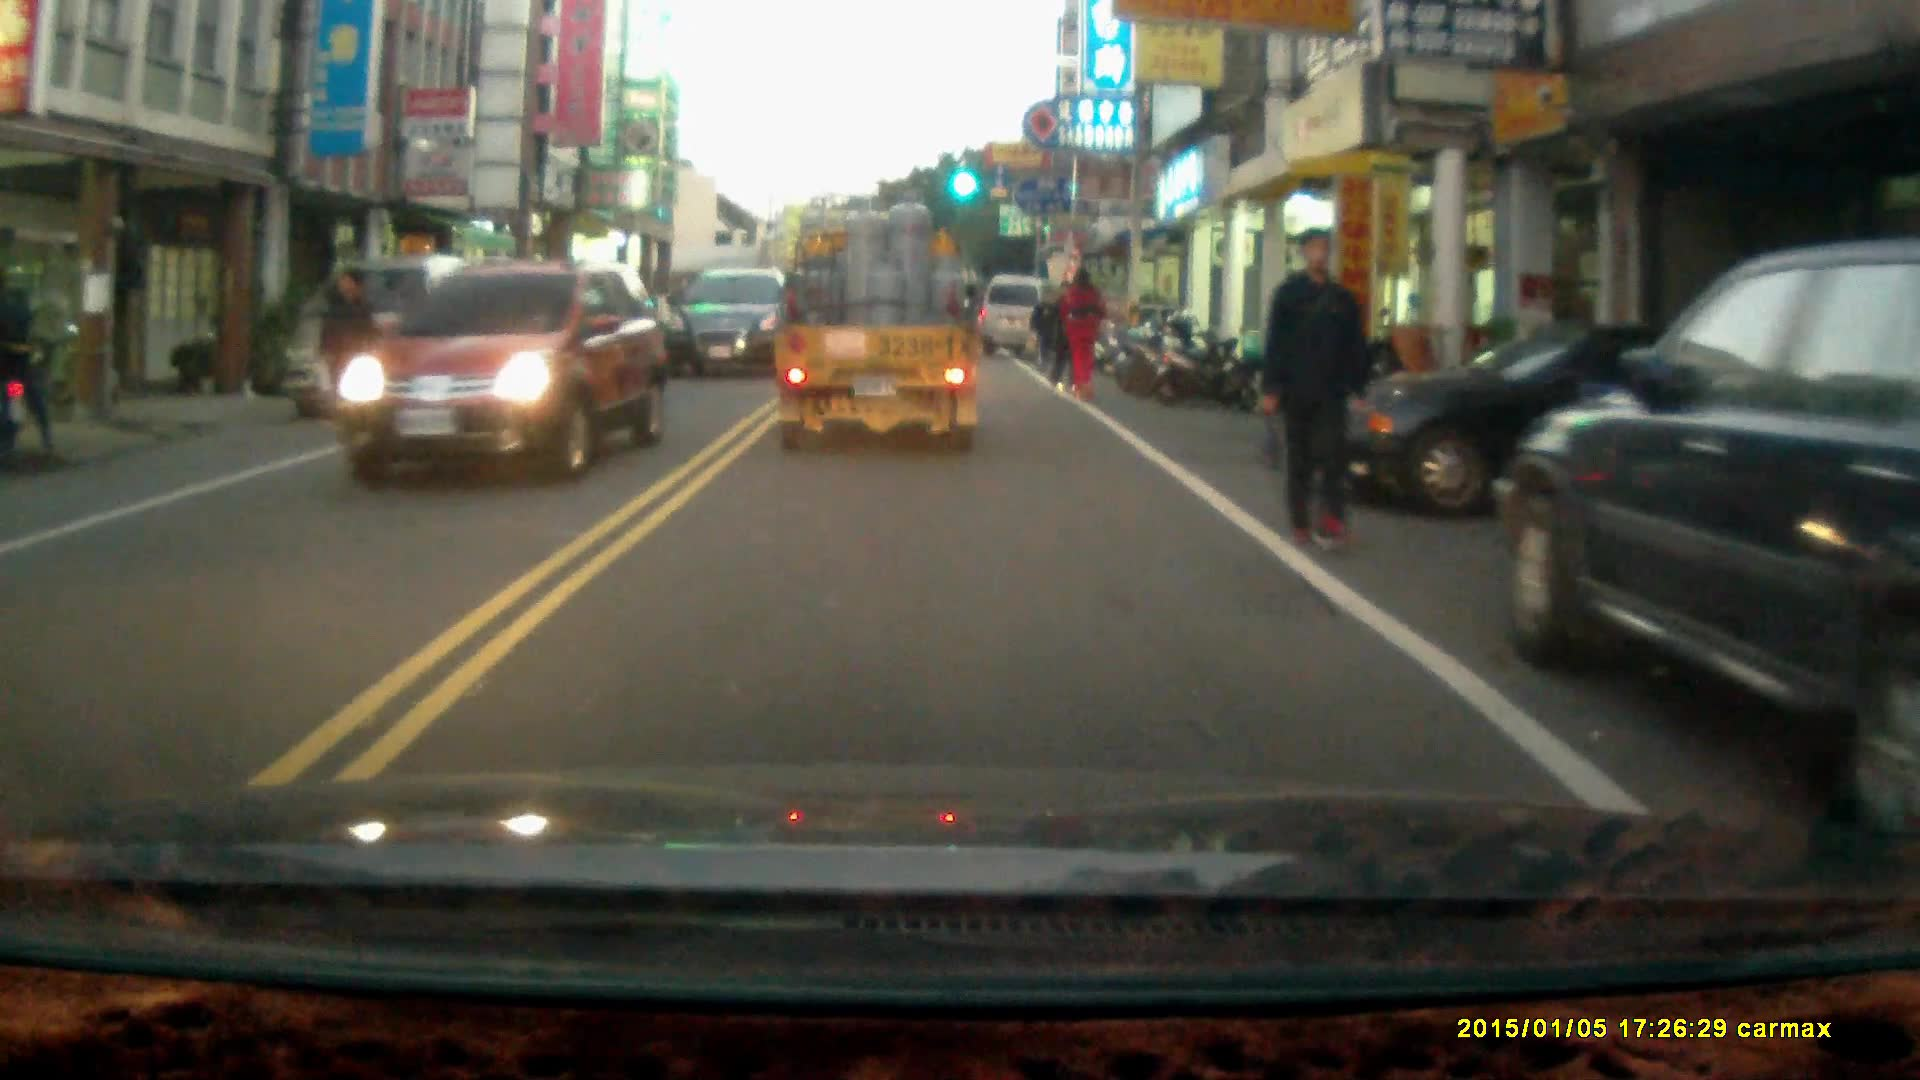pedestrian: (1258, 224, 1370, 555), (0, 259, 65, 472), (316, 266, 379, 428), (1062, 263, 1104, 401), (1036, 282, 1061, 367)
vehicle: (1497, 236, 1920, 838), (1342, 322, 1815, 520), (324, 266, 672, 489), (774, 206, 984, 478), (674, 270, 789, 386), (984, 279, 1063, 368)
